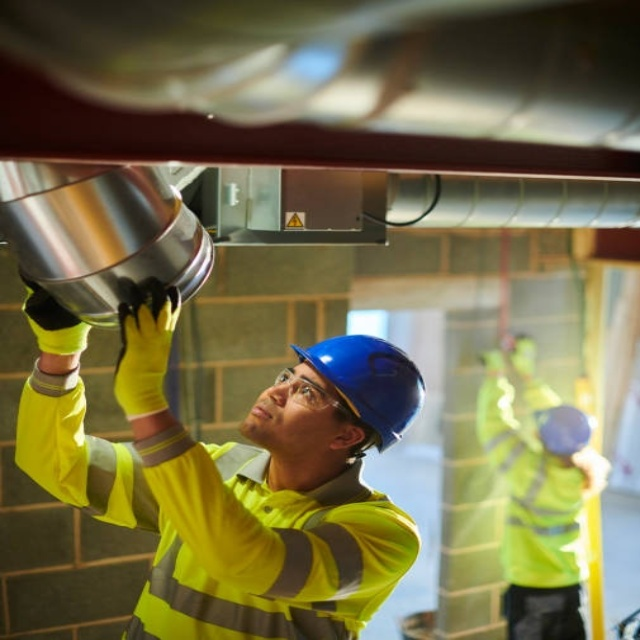Gafas: (272, 364, 347, 424)
Guantes: (110, 282, 182, 420), (22, 277, 94, 357)
Sin_mascara: (240, 394, 279, 439)
